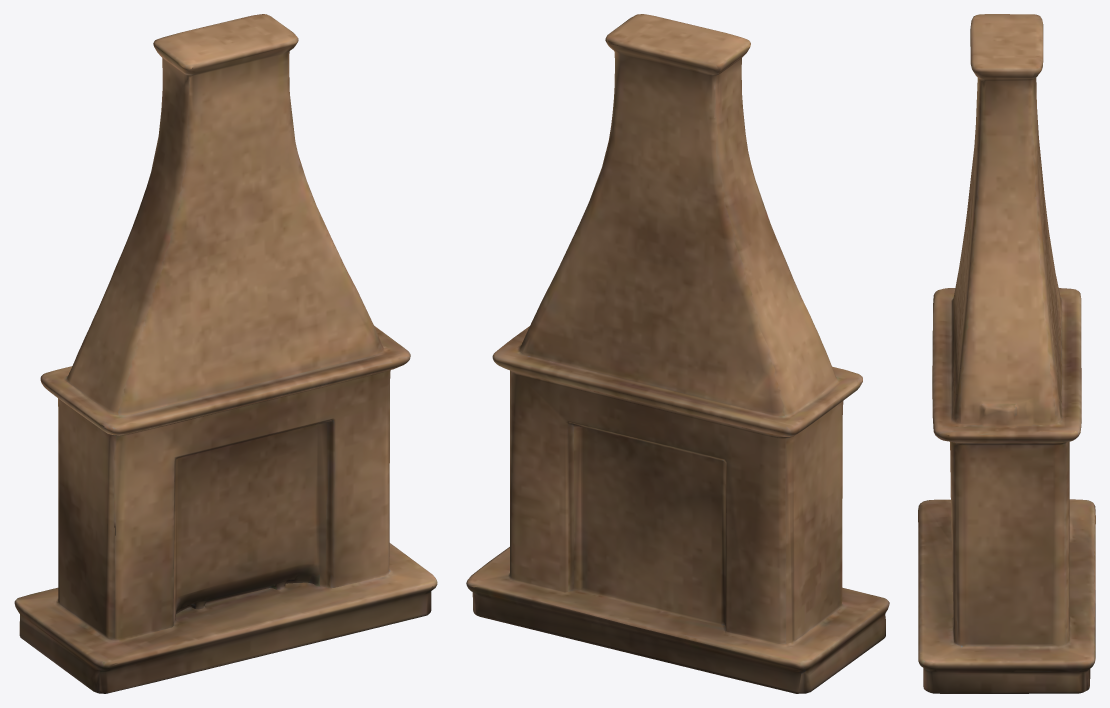
File: plain-sandstone-fireplace-v001.glb
3 views of the same model, side by side, from view 1: azimuth 30°, elevation 25°; view 2: azimuth 150°, elevation 25°; view 3: azimuth 270°, elevation 25° (orthographic). The views are drawn at different scales.
Parts seen in each view (by area): view 1: plain-sandstone-fireplace; view 2: plain-sandstone-fireplace; view 3: plain-sandstone-fireplace.
Boxes of the visible parts, x1,y1,x2,y2 form: plain-sandstone-fireplace: (14, 14, 437, 693); plain-sandstone-fireplace: (466, 14, 889, 693); plain-sandstone-fireplace: (918, 14, 1095, 693).
Size of the model in its own units: 0.9457 by 1.54 by 0.4316.
1 material, 1 textured.
